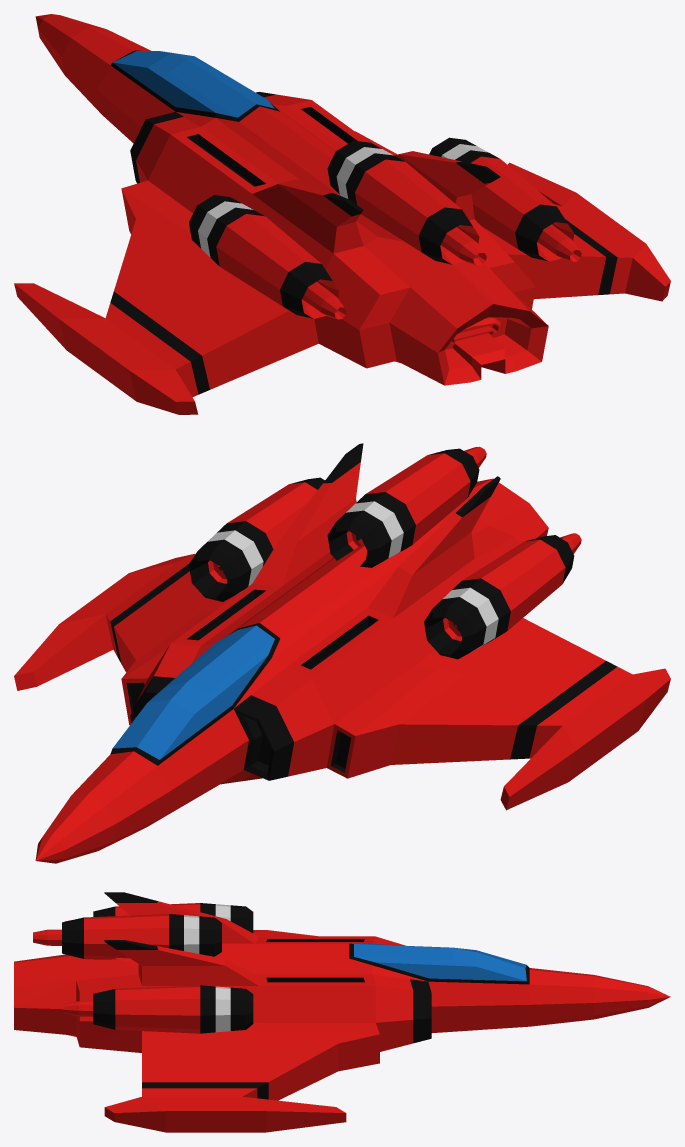
File: nave3.obj
The picture shows the model from 3 angles, top to bottom: view 1: azimuth 30°, elevation 25°; view 2: azimuth 150°, elevation 25°; view 3: azimuth 270°, elevation 25°; orthographic projection. The views are drawn at different scales.
Parts seen in each view (by area): view 1: Starship_Collectiont; view 2: Starship_Collectiont; view 3: Starship_Collectiont.
Part boxes in pixels (x1,y1,x2,y2): Starship_Collectiont: (14, 14, 670, 414); Starship_Collectiont: (14, 443, 670, 863); Starship_Collectiont: (14, 892, 670, 1132).
Size of the model in its own units: 147 by 48.78 by 225.
